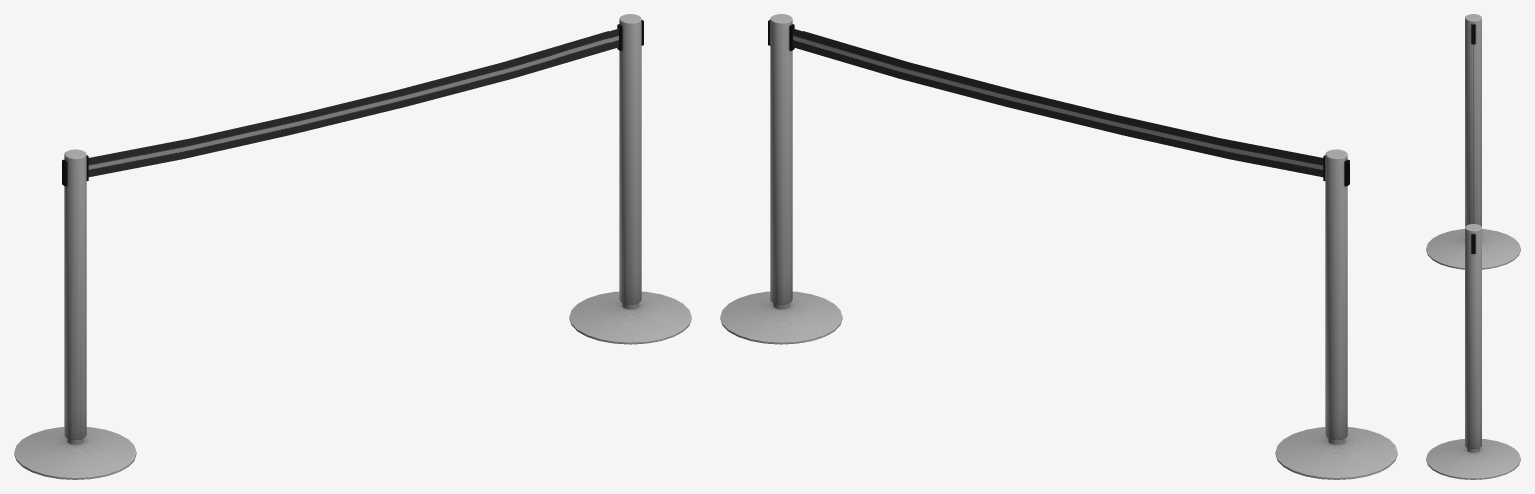
Rendered from linepost_0001.fbx.
The picture shows the model from 3 angles, left to right: view 1: azimuth 30°, elevation 25°; view 2: azimuth 150°, elevation 25°; view 3: azimuth 270°, elevation 25°; orthographic projection. The views are drawn at different scales.
Visible parts, largest first — view 1: linepost_0001c, linepost_0001a, linepost_0001d; view 2: linepost_0001c, linepost_0001a, linepost_0001d; view 3: linepost_0001c, linepost_0001a.
Boxes of the visible parts, box(x1,y1,x2,y2) form: linepost_0001c: box(88, 14, 691, 344); linepost_0001a: box(14, 149, 136, 479); linepost_0001d: box(88, 31, 608, 177); linepost_0001c: box(720, 14, 1323, 344); linepost_0001a: box(1275, 149, 1397, 479); linepost_0001d: box(803, 31, 1323, 177); linepost_0001c: box(1426, 27, 1520, 479); linepost_0001a: box(1426, 14, 1520, 269).
Bounding box in the file's own units: 2.26 × 0.9824 × 0.362.
